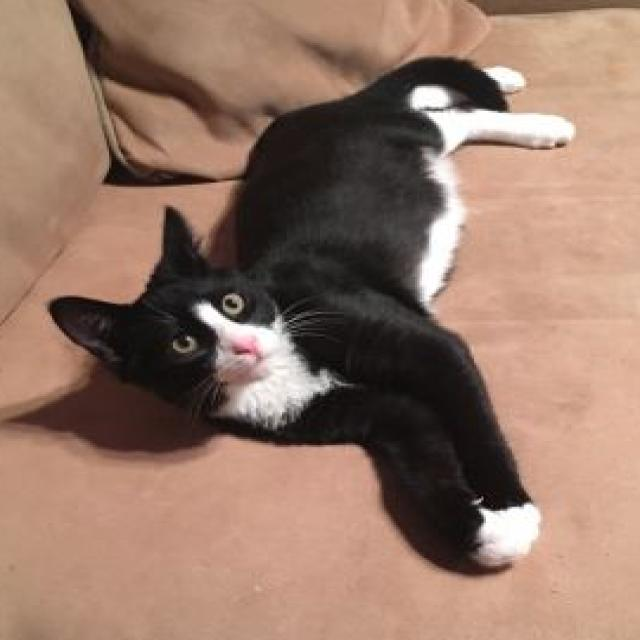Tuxedo: (44, 52, 578, 570)
